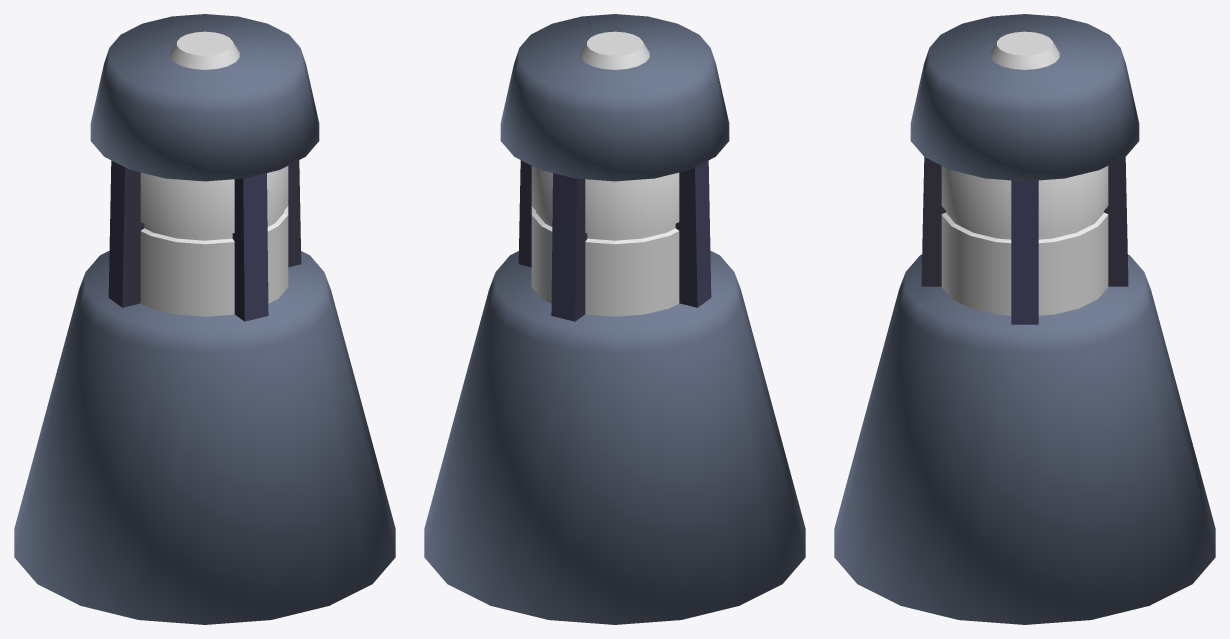
The model's file is Lamp.FBX.
The picture shows the model from 3 angles, left to right: view 1: azimuth 30°, elevation 25°; view 2: azimuth 150°, elevation 25°; view 3: azimuth 270°, elevation 25°; orthographic projection.
Visible parts, largest first — view 1: bODY, cAP, LAMP; view 2: bODY, cAP, LAMP; view 3: bODY, cAP, LAMP.
Part boxes in pixels (bbox=[...]): bODY: bbox=[14, 250, 395, 624]; cAP: bbox=[90, 14, 319, 321]; LAMP: bbox=[140, 31, 288, 316]; bODY: bbox=[424, 250, 805, 624]; cAP: bbox=[500, 14, 729, 321]; LAMP: bbox=[531, 31, 679, 316]; bODY: bbox=[834, 254, 1215, 624]; cAP: bbox=[910, 14, 1139, 324]; LAMP: bbox=[941, 31, 1108, 315].
Bounding box in the file's own units: 42.04 × 59.82 × 41.4.
